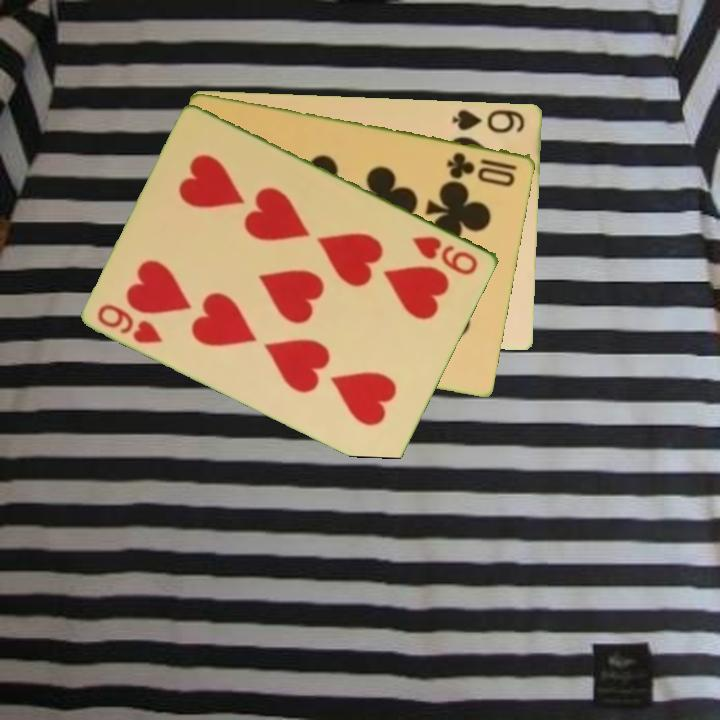10c: (443, 148, 520, 189)
6s: (449, 105, 528, 136)
9h: (94, 300, 166, 347), (409, 232, 482, 278)
